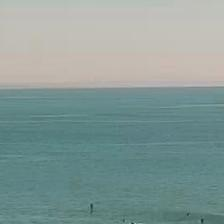surfer: (90, 203, 94, 211), (200, 218, 204, 223), (186, 213, 190, 216), (122, 219, 125, 222), (130, 222, 136, 223)
